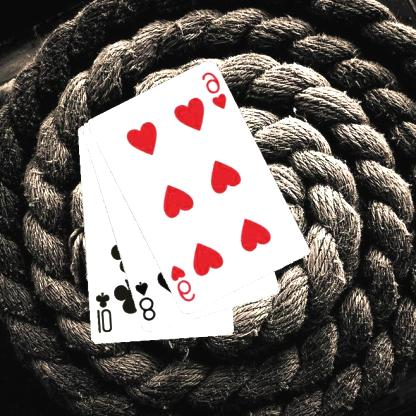10C: (94, 290, 115, 335)
6H: (201, 69, 230, 111), (170, 262, 198, 304)
8S: (134, 278, 160, 323)
